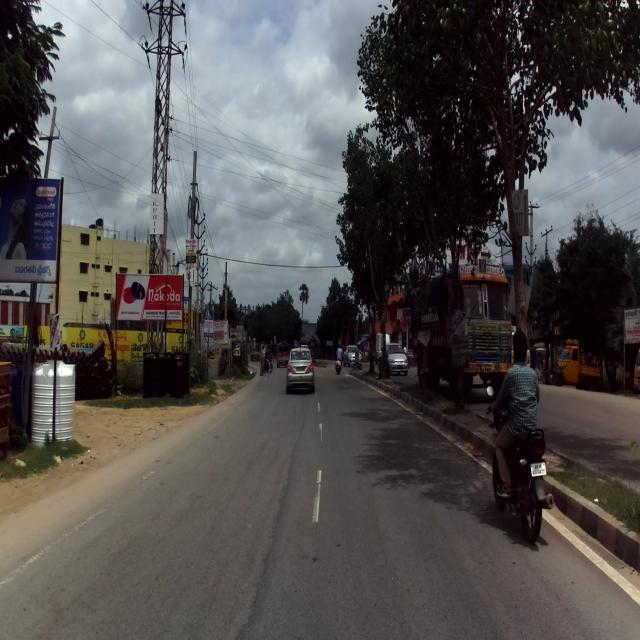car: (285, 346, 315, 392)
motorcycle: (485, 382, 554, 546)
